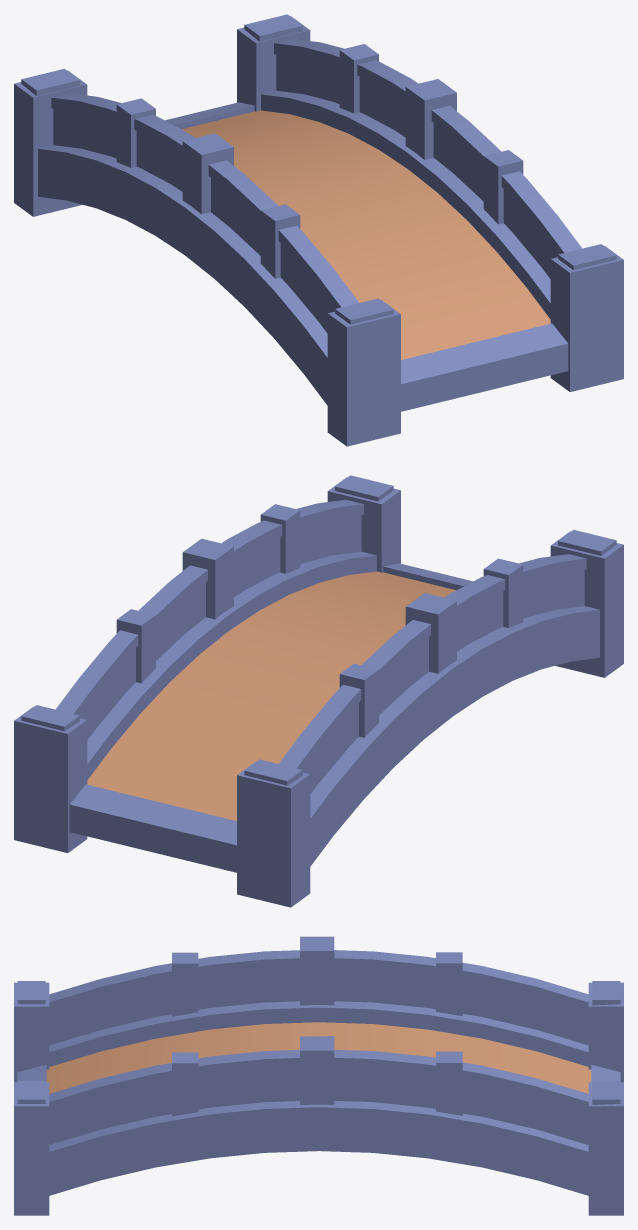
Rendered from bridge_2c_1.fbx.
3 views of the same model, one above another, from view 1: azimuth 30°, elevation 25°; view 2: azimuth 150°, elevation 25°; view 3: azimuth 270°, elevation 25° (orthographic). The views are drawn at different scales.
Parts seen in each view (by area): view 1: bridge_2c_1; view 2: bridge_2c_1; view 3: bridge_2c_1.
Boxes of the visible parts, <box> form: bridge_2c_1: <box>14,14,623,446</box>; bridge_2c_1: <box>14,475,623,907</box>; bridge_2c_1: <box>14,936,623,1215</box>.
Size of the model in its own units: 9.94 by 5.99 by 20.7.
